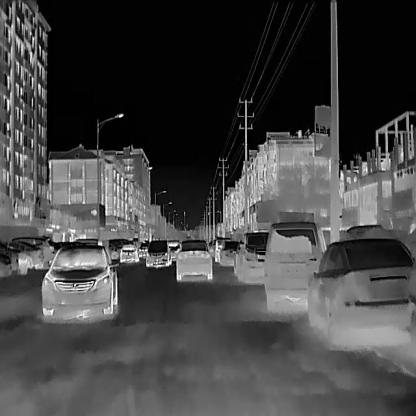car: (307, 238, 415, 347), (40, 244, 118, 316), (262, 220, 326, 307), (232, 231, 268, 283), (176, 239, 212, 280), (4, 241, 42, 266), (145, 240, 171, 266), (218, 240, 238, 265), (119, 244, 138, 262)
